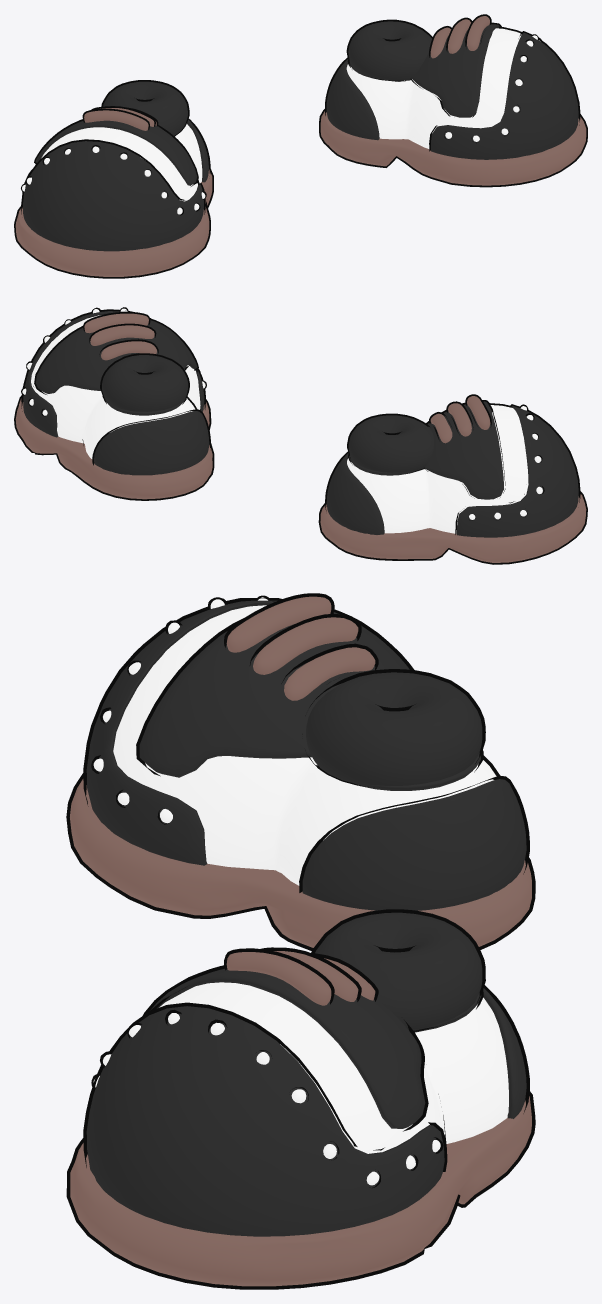
File: SHOES.MUSIC.BARBERSHOP.glb
The picture shows the model from 3 angles, top to bottom: view 1: azimuth 30°, elevation 25°; view 2: azimuth 150°, elevation 25°; view 3: azimuth 270°, elevation 25°; orthographic projection. The views are drawn at different scales.
Parts seen in each view (by area): view 1: SHOES.MUSIC.BARBERSHOP; view 2: SHOES.MUSIC.BARBERSHOP; view 3: SHOES.MUSIC.BARBERSHOP.
Boxes of the visible parts, <box> form: SHOES.MUSIC.BARBERSHOP: <box>14,14,587,278</box>; SHOES.MUSIC.BARBERSHOP: <box>14,307,587,564</box>; SHOES.MUSIC.BARBERSHOP: <box>66,593,535,1289</box>.
Bounding box in the file's own units: 2.71 × 0.5939 × 1.
